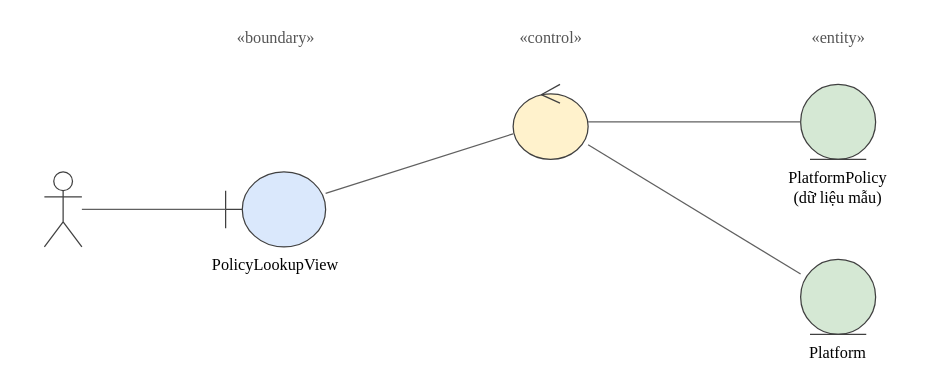
This 935x384 diagram has some shape labels left out. The box of each missing label's shape, as (x1, y1, x2, y2) in pixels:
Người dùng: (43, 171, 82, 247)
PolicyLookupService: (512, 83, 588, 159)
